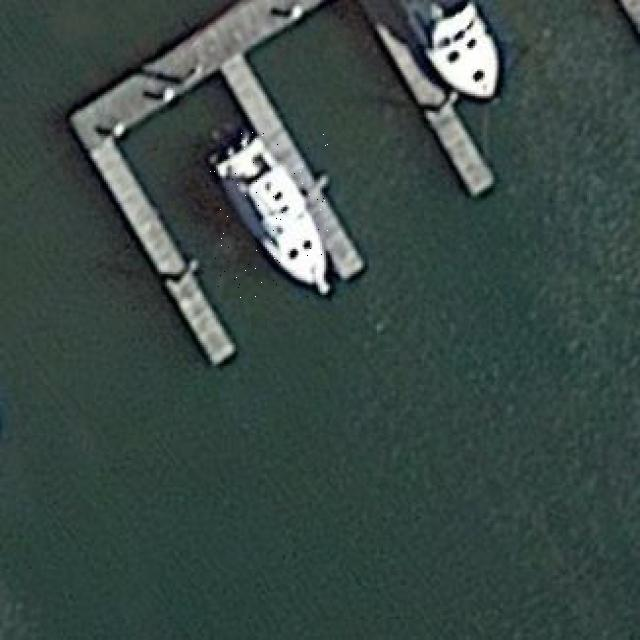boat: (208, 132, 328, 299)
